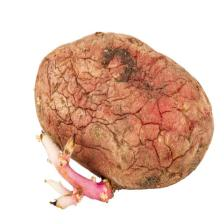Sprouted potato: (16, 20, 212, 209)
